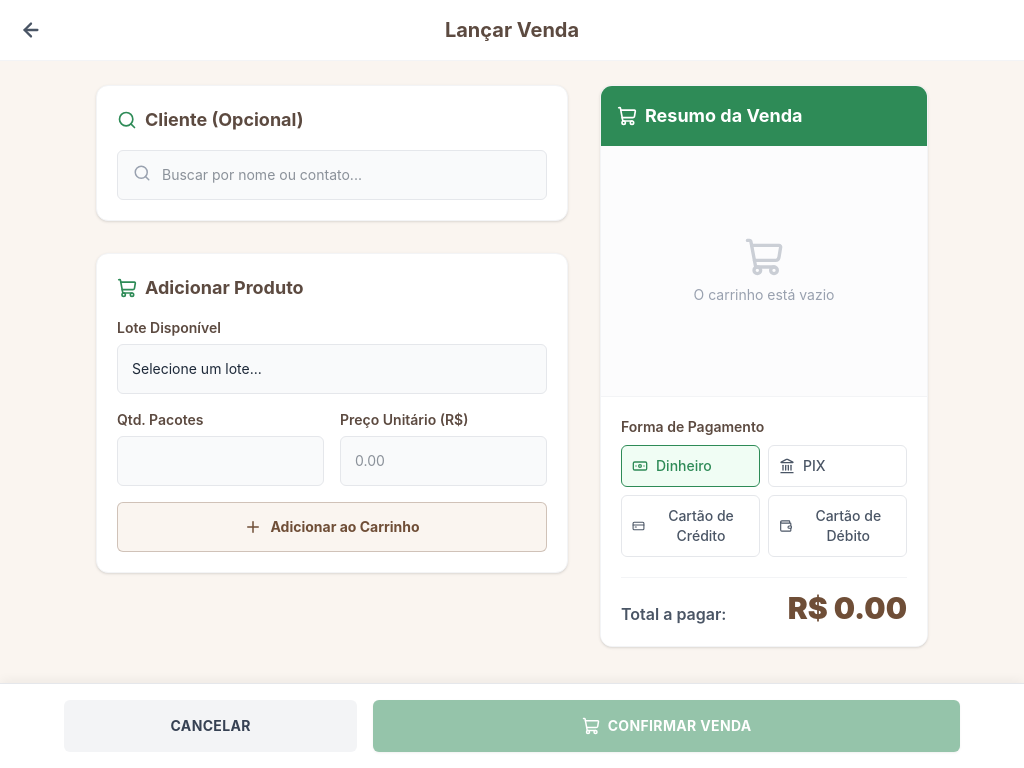
Test case: RegistroVenda › deve adicionar um item ao carrinho e calcular o total corretamente
The width and height of the screenshot is (1024, 768).
// Seleciona o lote (lote-2 não deve aparecer pois tem quantidade 0)
Select "LOTE-2026-100 - Arábica (Estoque: 10)" in the dropdown: (332, 369) [117,344,547,394]
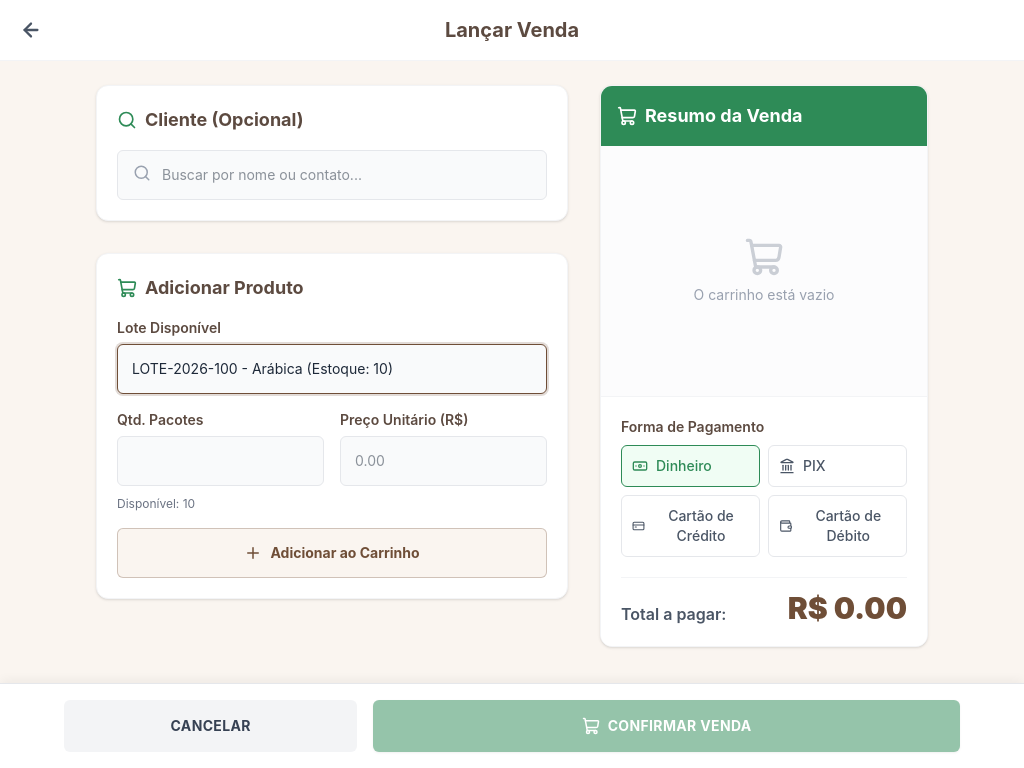
In the number field labelled "Qtd. Pacotes": (220, 461) [117,436,324,486], type "2"
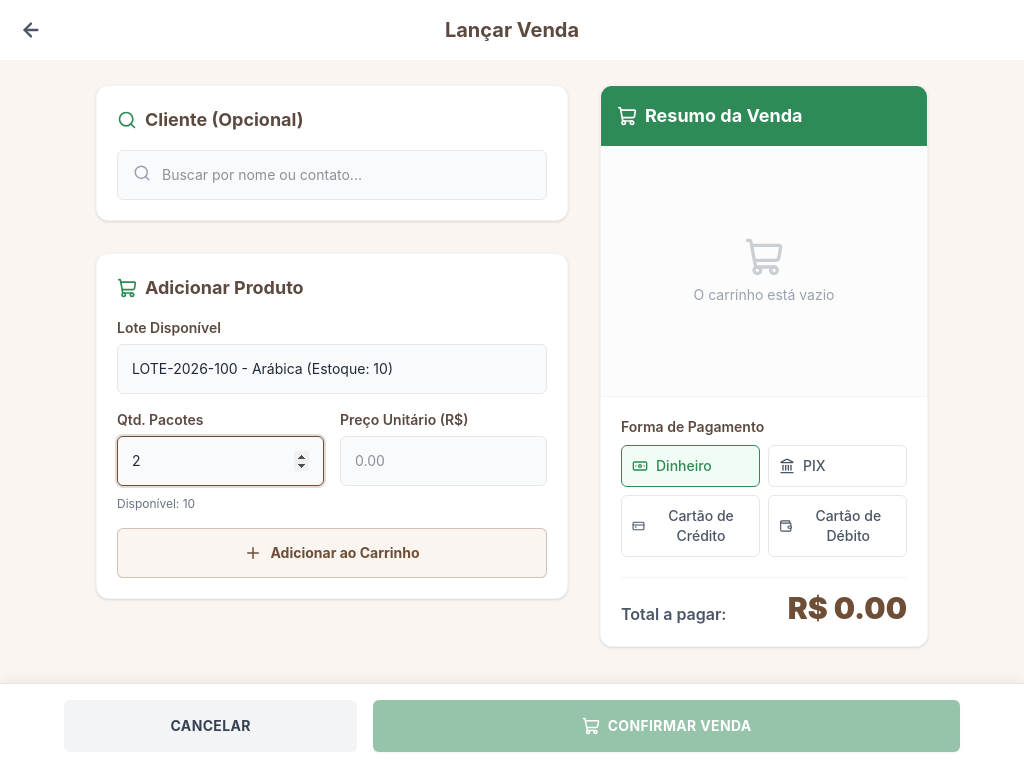
In the number field labelled "Preço Unitário (R$)": (444, 461) [340,436,547,486], type "25.50"
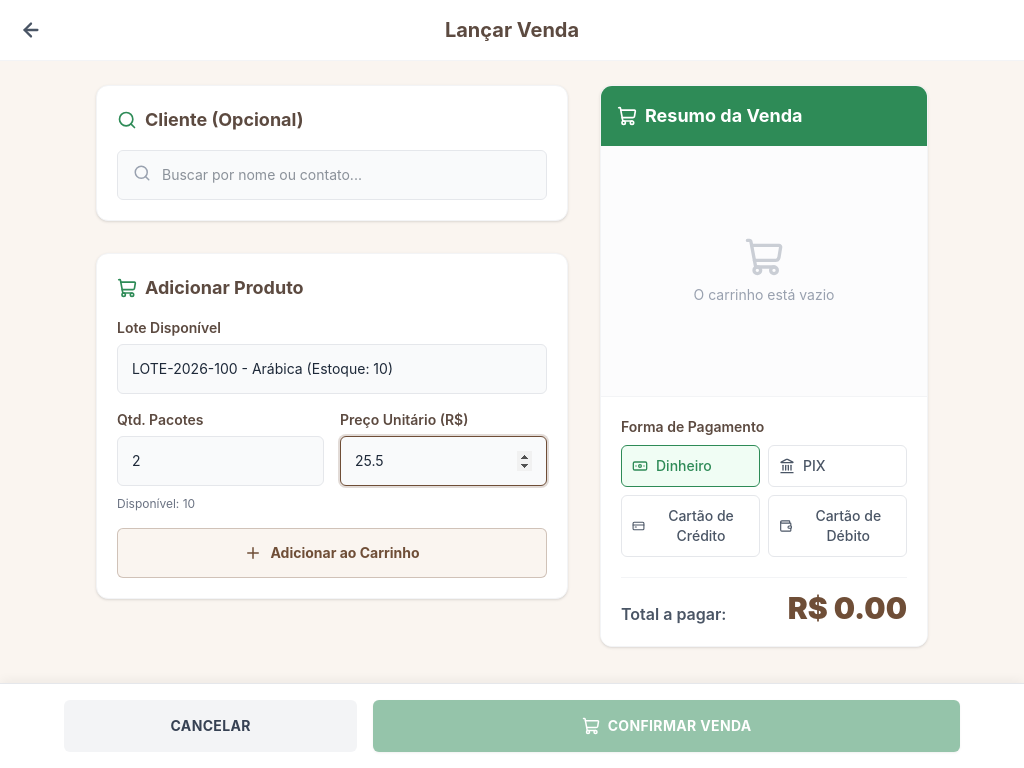
// Clica em adicionar
Click the button "Adicionar ao Carrinho": (332, 553) [117,528,547,578]
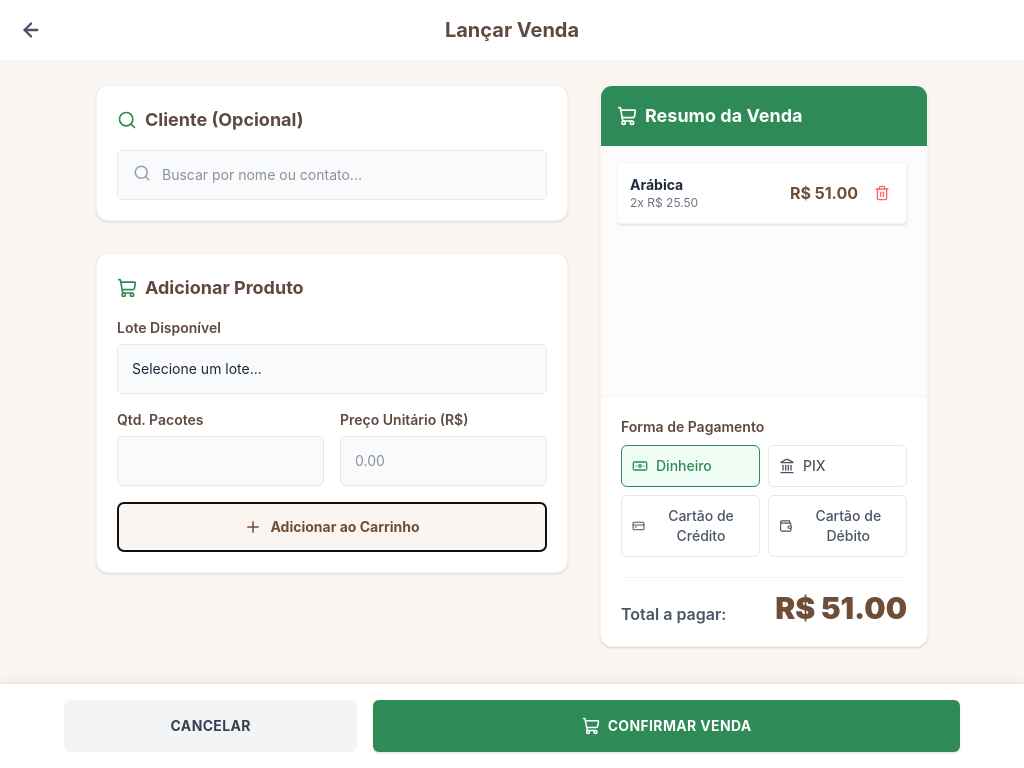
Now the text "2x R$ 25.50" is shown, box [630,195,698,211]
